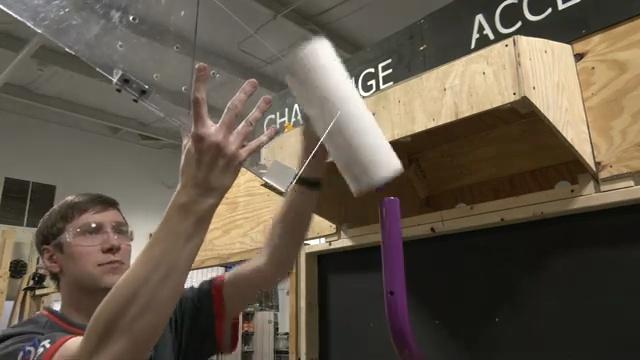CORAL: (281, 34, 405, 198)
